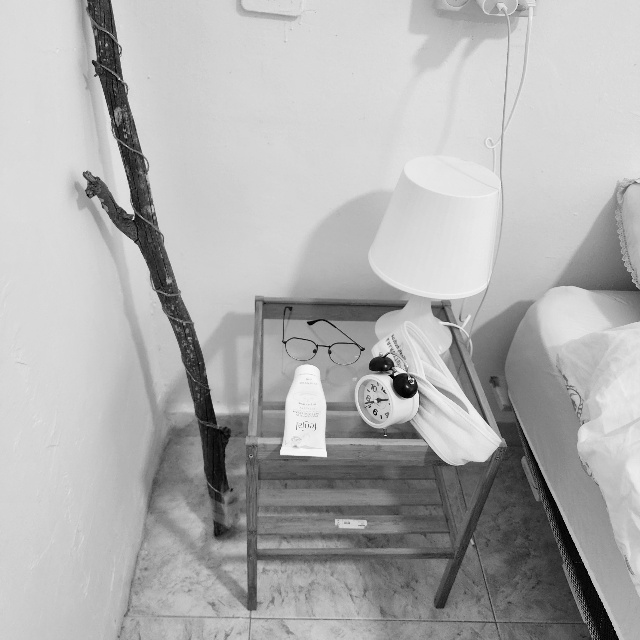glasses: (279, 305, 366, 366)
